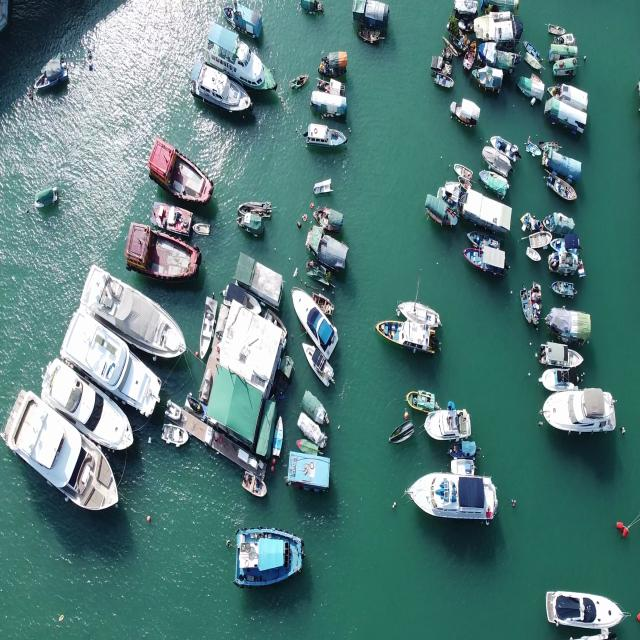ship: (12, 392, 124, 531), (66, 315, 157, 426), (45, 362, 136, 459), (228, 527, 326, 594), (396, 471, 514, 525), (530, 574, 630, 630), (125, 218, 202, 284), (199, 24, 283, 82), (139, 144, 214, 197), (538, 390, 626, 435), (195, 56, 257, 115), (292, 286, 338, 356), (424, 409, 477, 438), (447, 94, 483, 133), (533, 341, 586, 367), (540, 173, 578, 204), (532, 365, 582, 387), (306, 122, 348, 147), (35, 54, 68, 85), (406, 381, 439, 410), (239, 473, 267, 500), (389, 418, 414, 448), (237, 202, 275, 220), (238, 215, 262, 242), (447, 456, 479, 474), (162, 424, 188, 446), (33, 184, 66, 201), (550, 280, 578, 298), (452, 159, 472, 182), (312, 174, 334, 194), (428, 74, 454, 88)
